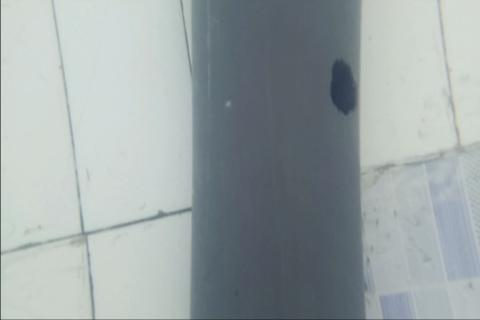kebocoran: (328, 56, 357, 118)
